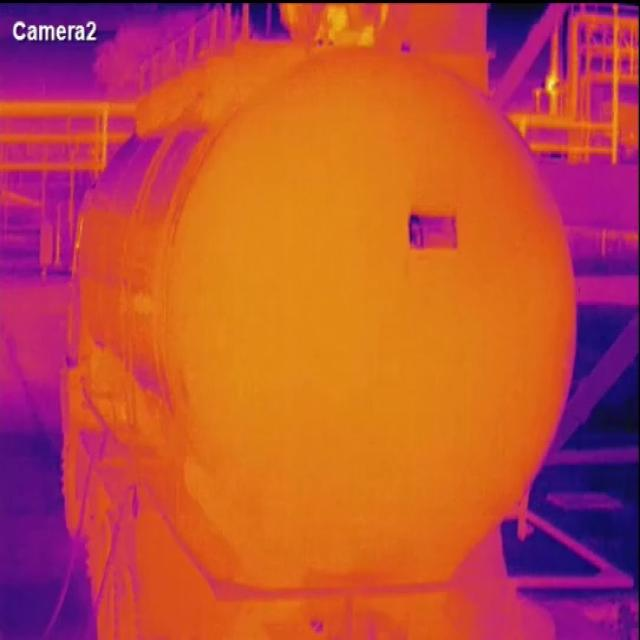tank: (171, 50, 578, 573)
